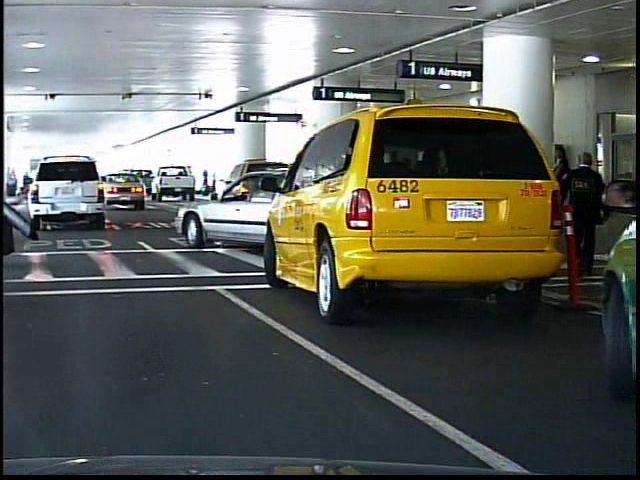person: (561, 149, 608, 279), (542, 141, 571, 249), (209, 168, 217, 197)
